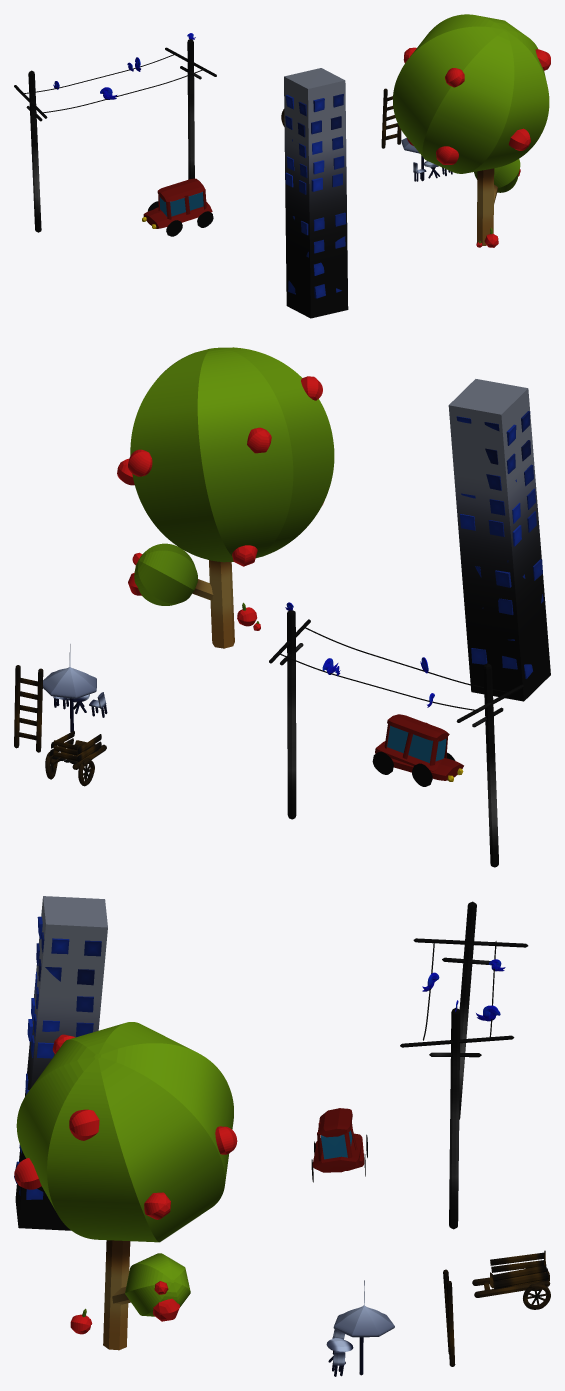
3 renders of one model, top to bottom at view 1: azimuth 30°, elevation 25°; view 2: azimuth 150°, elevation 25°; view 3: azimuth 270°, elevation 25°, orthographic. The views are drawn at different scales.
Visible parts, largest first — view 1: Summertree, Building, Perchoir, Ture, Scale, Bar; view 2: Summertree, Building, Perchoir, Ture, Scale, Charette, Voiture, Bar; view 3: Summertree, Building, Perchoir, Ture, Charette, Voiture, Scale, Bar.
Part boxes in pixels (left/top/right/bottom): Summertree: left=393, top=14, right=550, bottom=247; Building: left=147, top=68, right=348, bottom=318; Perchoir: left=14, top=33, right=216, bottom=232; Ture: left=142, top=178, right=213, bottom=236; Scale: left=381, top=88, right=401, bottom=148; Bar: left=413, top=155, right=452, bottom=181; Summertree: left=117, top=347, right=334, bottom=648; Building: left=372, top=379, right=550, bottom=786; Perchoir: left=269, top=602, right=523, bottom=867; Ture: left=375, top=714, right=463, bottom=781; Scale: left=14, top=665, right=57, bottom=779; Charette: left=49, top=731, right=106, bottom=786; Voiture: left=43, top=644, right=96, bottom=698; Bar: left=53, top=692, right=107, bottom=731; Summertree: left=14, top=1022, right=237, bottom=1350; Building: left=14, top=896, right=367, bottom=1230; Perchoir: left=400, top=901, right=528, bottom=1229; Ture: left=311, top=1108, right=364, bottom=1182; Charette: left=472, top=1250, right=550, bottom=1297; Voiture: left=333, top=1280, right=394, bottom=1337; Scale: left=443, top=1269, right=550, bottom=1366; Bar: left=326, top=1329, right=363, bottom=1376.
Size of the model in its own units: 10.39 by 5.79 by 8.71.
